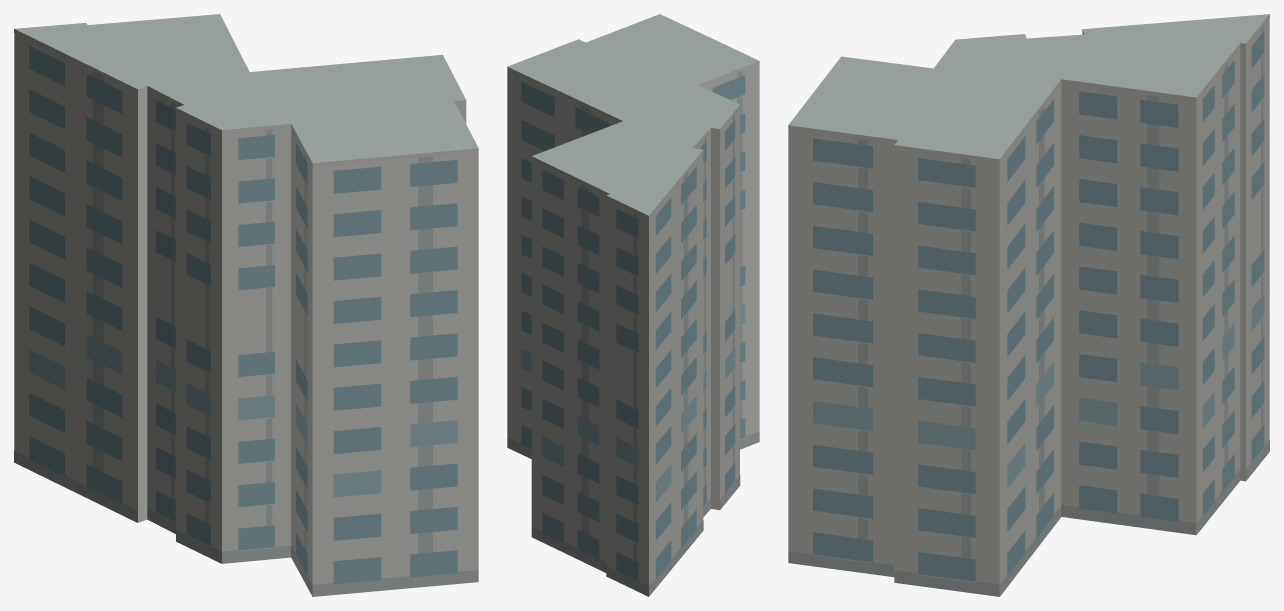
File: survey-upis-32948872.glb
3 renders of one model, left to right at view 1: azimuth 30°, elevation 25°; view 2: azimuth 150°, elevation 25°; view 3: azimuth 270°, elevation 25°, orthographic. The views are drawn at different scales.
Visible parts, largest first — view 1: survey-upis-32948872.tmp; view 2: survey-upis-32948872.tmp; view 3: survey-upis-32948872.tmp.
Boxes of the visible parts, <box> form: survey-upis-32948872.tmp: <box>14,14,478,596</box>; survey-upis-32948872.tmp: <box>507,14,759,596</box>; survey-upis-32948872.tmp: <box>788,14,1269,596</box>.
Size of the model in its own units: 17.74 by 24.92 by 24.86.
